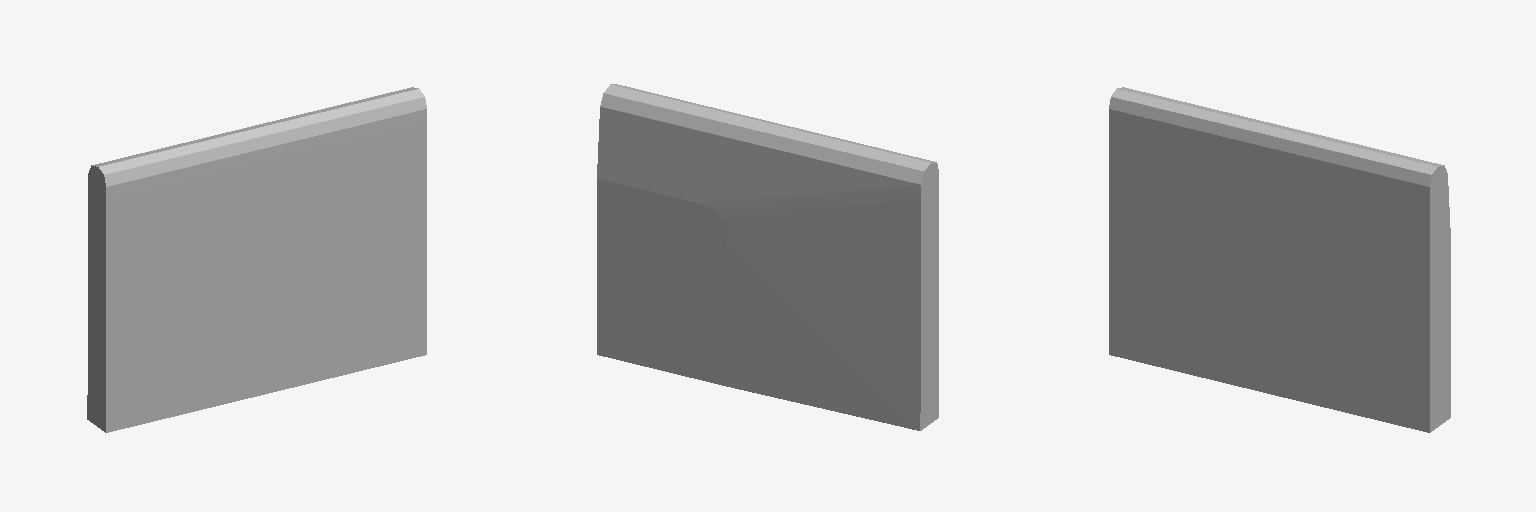
File: ShipScene_collision_21.obj
3 views of the same model, side by side, from view 1: azimuth 30°, elevation 25°; view 2: azimuth 150°, elevation 25°; view 3: azimuth 330°, elevation 25° (orthographic).
Bounding box in the file's own units: 120 × 92.87 × 13.71.